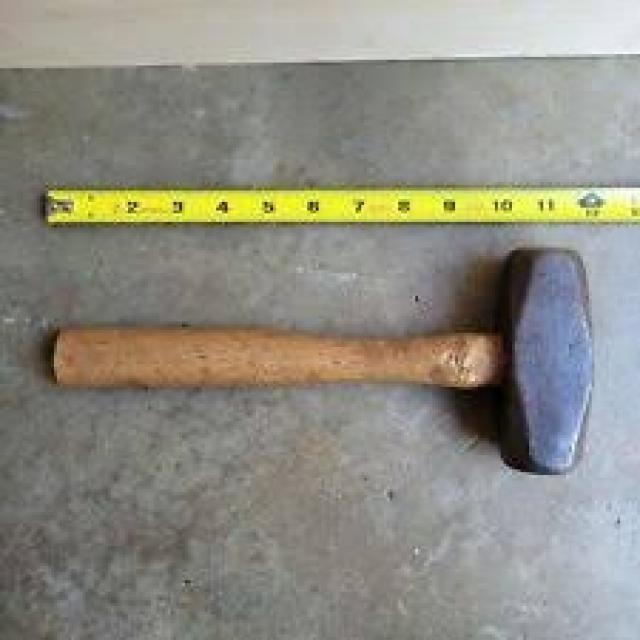hammer: (34, 234, 612, 486)
